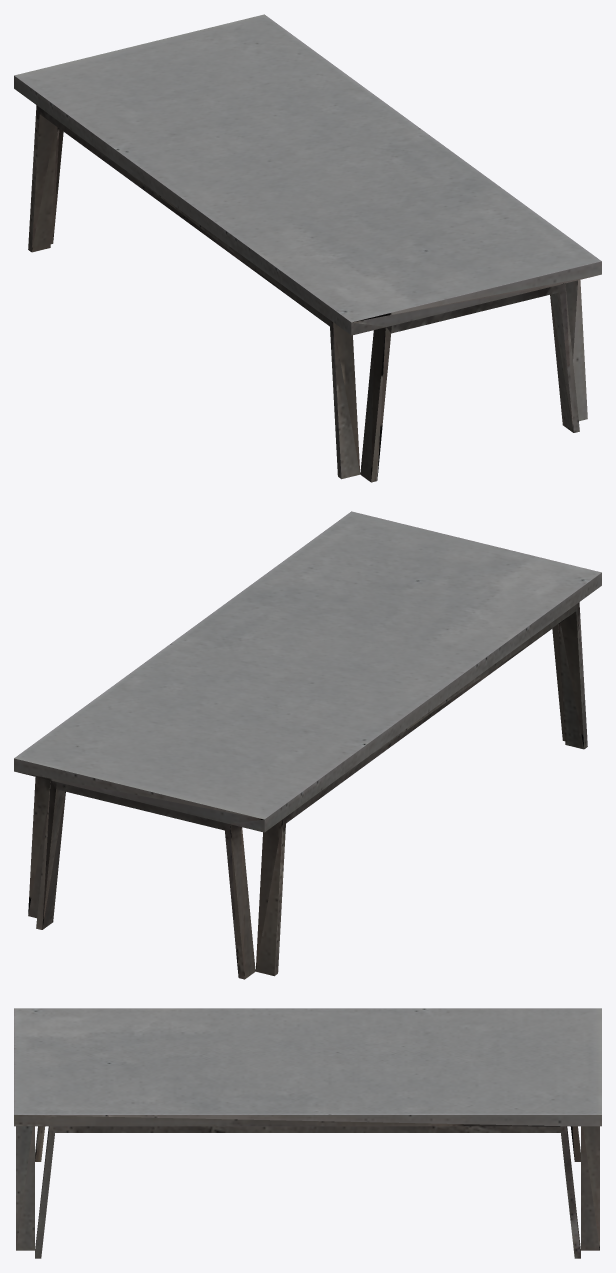
3 renders of one model, top to bottom at view 1: azimuth 30°, elevation 25°; view 2: azimuth 150°, elevation 25°; view 3: azimuth 270°, elevation 25°, orthographic. The views are drawn at different scales.
Visible parts, largest first — view 1: Node; view 2: Node; view 3: Node.
Part boxes in pixels (x1,y1,x2,y2): Node: (14, 14, 601, 482); Node: (14, 511, 601, 979); Node: (14, 1008, 601, 1258).
Bounding box in the file's own units: 0.3 × 0.19 × 0.7.
1 material, 1 textured.
